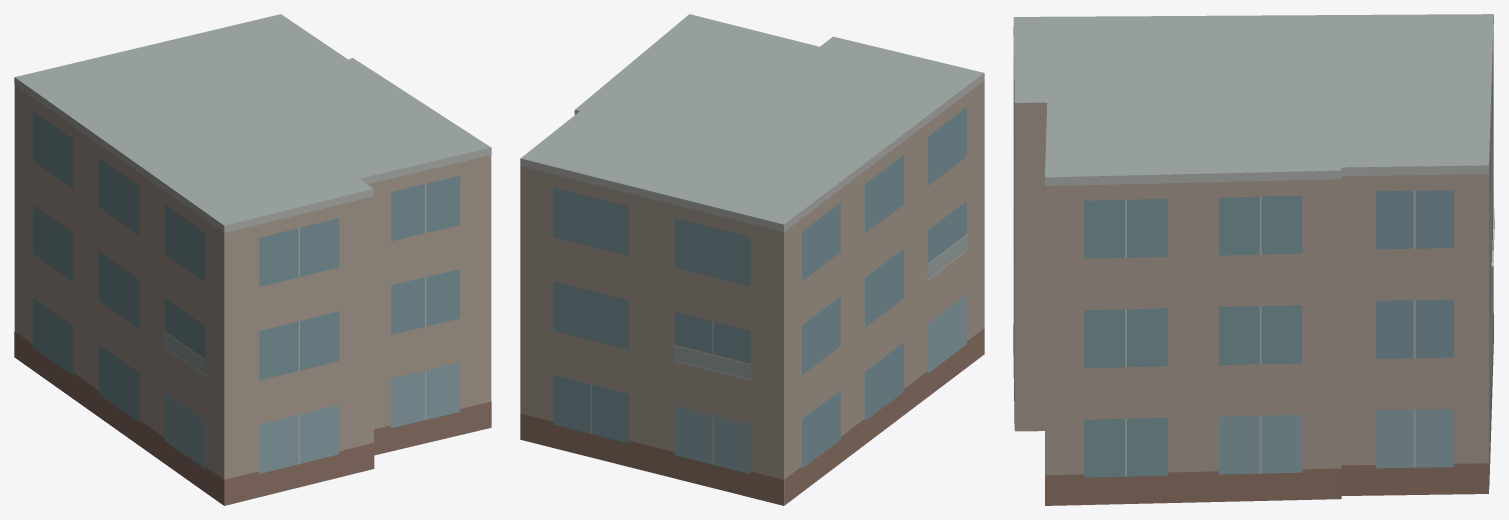
File: survey-upis-32498549.glb
The picture shows the model from 3 angles, left to right: view 1: azimuth 30°, elevation 25°; view 2: azimuth 150°, elevation 25°; view 3: azimuth 270°, elevation 25°; orthographic projection. The views are drawn at different scales.
Parts seen in each view (by area): view 1: survey-upis-32498549.tmp; view 2: survey-upis-32498549.tmp; view 3: survey-upis-32498549.tmp.
Part boxes in pixels (<box>): survey-upis-32498549.tmp: <box>14,14,491,505</box>; survey-upis-32498549.tmp: <box>520,14,984,505</box>; survey-upis-32498549.tmp: <box>1013,14,1494,505</box>.
Bounding box in the file's own units: 9.82 × 9.2 × 12.22.
